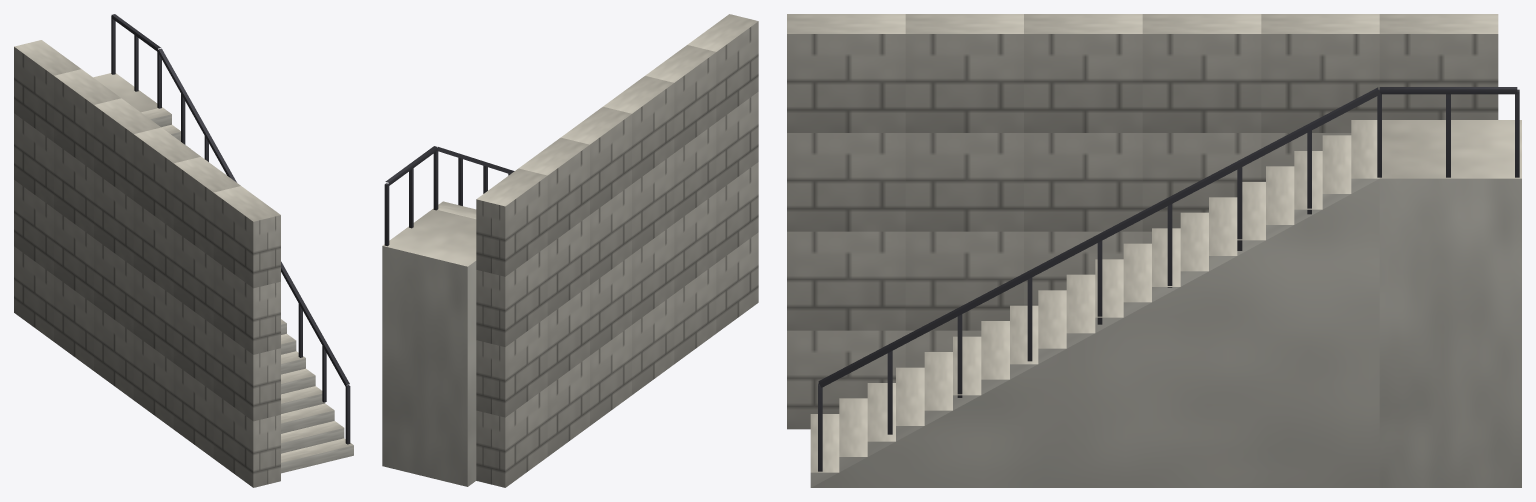
The model's file is stairs_wall_01.glb.
3 views of the same model, side by side, from view 1: azimuth 30°, elevation 25°; view 2: azimuth 150°, elevation 25°; view 3: azimuth 270°, elevation 25° (orthographic). The views are drawn at different scales.
Parts seen in each view (by area): view 1: stairs_wall_01; view 2: stairs_wall_01; view 3: stairs_wall_01.
Part boxes in pixels (left/top/right/bottom): stairs_wall_01: left=14, top=14, right=353, bottom=487; stairs_wall_01: left=382, top=14, right=758, bottom=487; stairs_wall_01: left=787, top=14, right=1521, bottom=487.
Bounding box in the file's own units: 1.96 × 4.63 × 7.75.
1 material, 1 textured.
